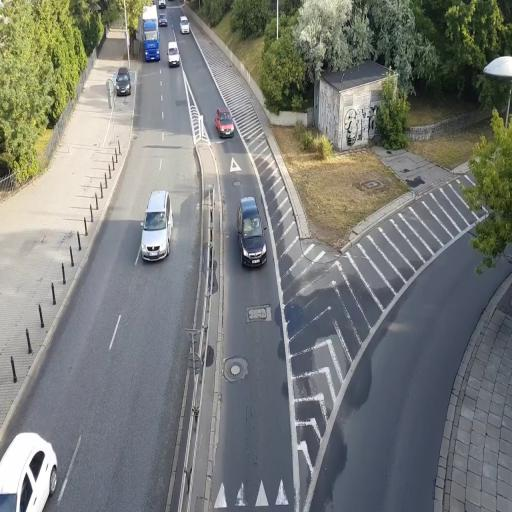vehicle: (238, 198, 268, 268), (140, 200, 171, 263), (142, 13, 160, 62), (215, 106, 234, 136), (114, 68, 132, 96), (168, 39, 180, 68), (158, 13, 168, 28)
